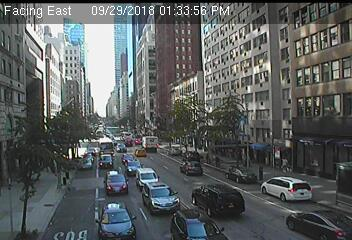car: (191, 183, 245, 221), (285, 209, 352, 239), (170, 209, 228, 240), (95, 202, 137, 240), (261, 176, 312, 204), (141, 182, 181, 216), (103, 170, 129, 196), (225, 167, 257, 184), (135, 168, 159, 189), (180, 160, 203, 177), (125, 158, 144, 177), (97, 153, 113, 169), (99, 138, 113, 155), (182, 150, 201, 162), (121, 153, 137, 166), (166, 146, 183, 156), (78, 158, 91, 170), (83, 153, 93, 164), (116, 144, 126, 152)
